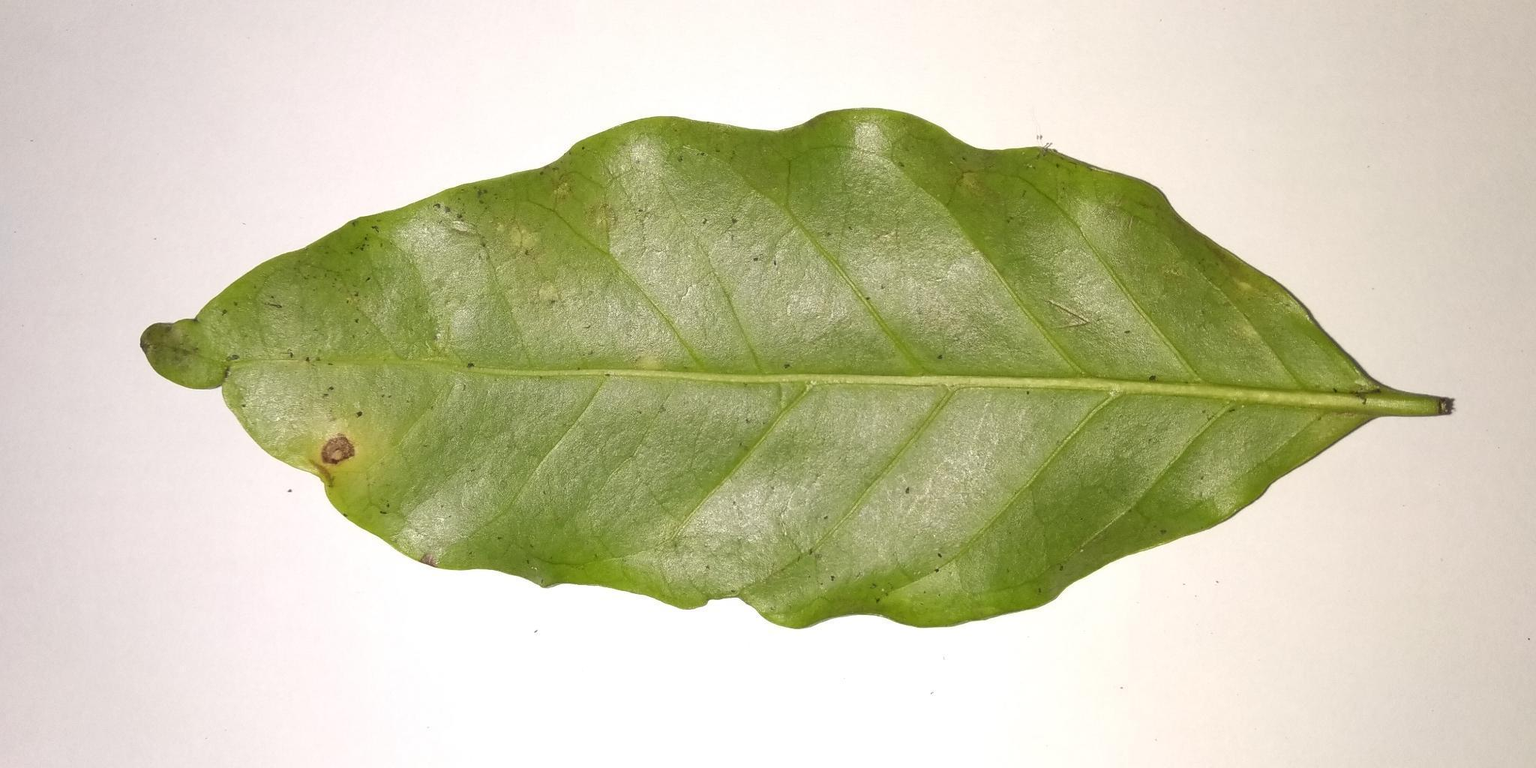Cercospora: (295, 417, 382, 492)
